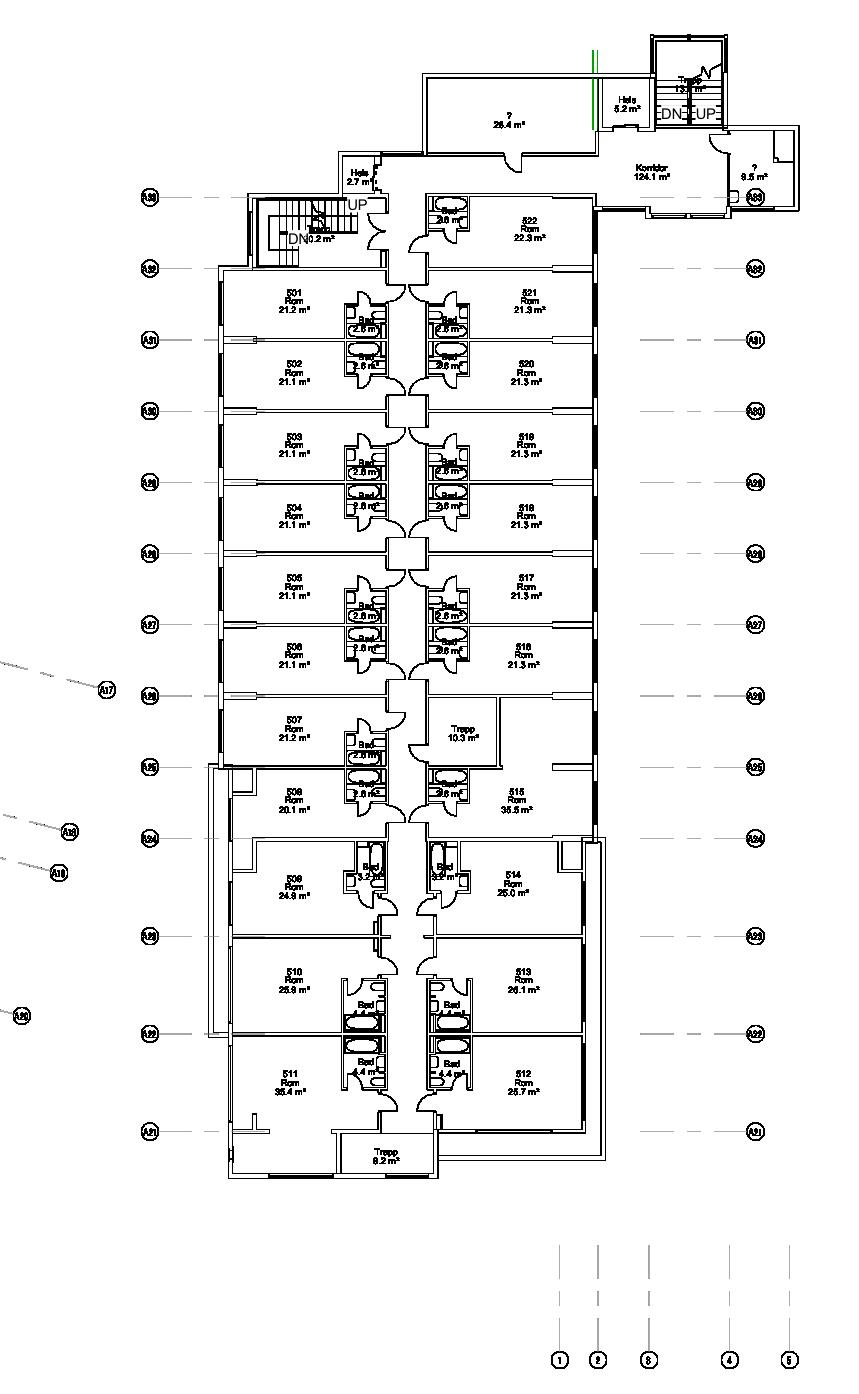room: (426, 1035, 584, 1129), (232, 1035, 388, 1130), (233, 937, 388, 1032), (234, 838, 387, 934), (427, 939, 582, 1033), (429, 843, 583, 934), (426, 76, 595, 152), (428, 196, 592, 265), (224, 626, 389, 694), (224, 484, 388, 552), (224, 413, 388, 481), (429, 270, 592, 338), (224, 341, 388, 408), (225, 271, 389, 338), (224, 698, 390, 764), (428, 341, 591, 408), (429, 412, 592, 479), (428, 484, 592, 550), (428, 627, 592, 693), (224, 556, 388, 622), (233, 769, 389, 838), (429, 769, 592, 835), (428, 557, 591, 622), (729, 132, 794, 206), (602, 78, 649, 127)
